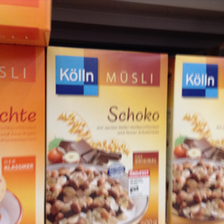cereal: (46, 47, 165, 224), (169, 52, 223, 224), (1, 45, 44, 223)
